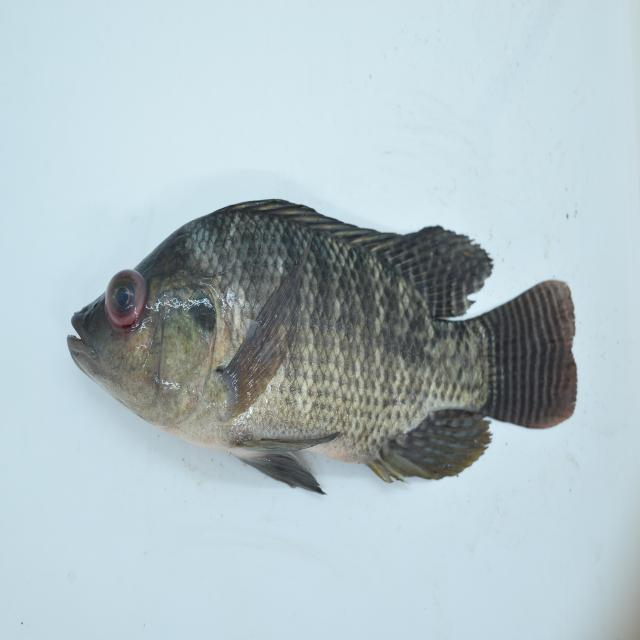streptococcus Disease: (66, 195, 580, 495)
